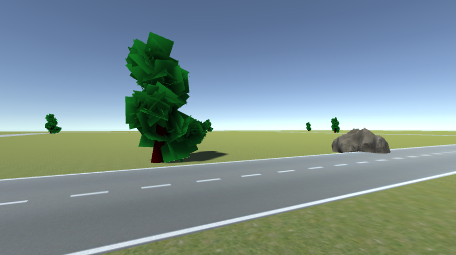rock: (332, 129, 392, 154)
tree: (123, 30, 213, 166), (44, 113, 63, 133), (330, 116, 340, 133), (305, 121, 312, 131)
